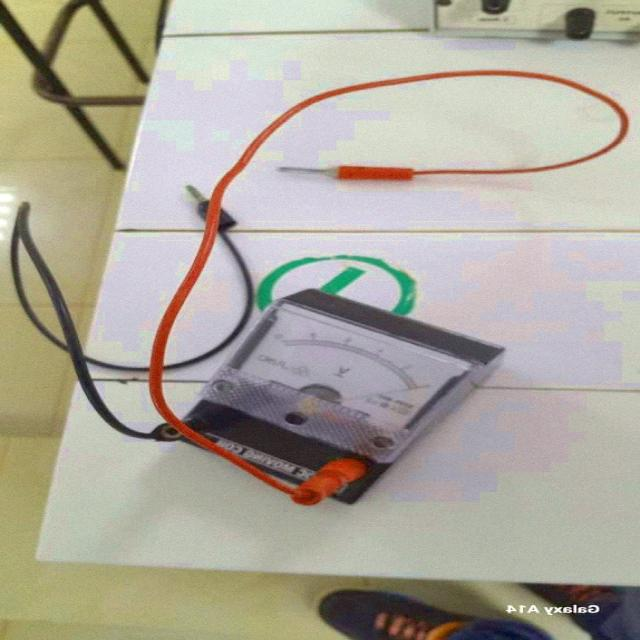Voltmeter: (63, 79, 615, 508)
